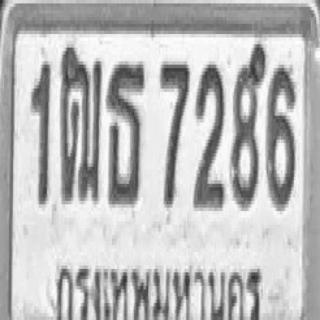A18: (60, 42, 103, 202)
A24: (106, 58, 145, 204)
N01: (30, 58, 51, 204)
N02: (193, 60, 224, 206)
N06: (266, 61, 294, 208)
N07: (159, 60, 189, 206)
N08: (230, 41, 265, 208)
P04: (53, 252, 266, 320)
